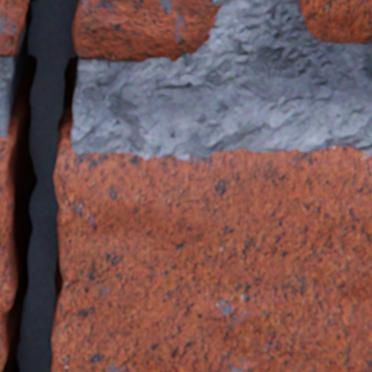brick: (298, 0, 371, 43)
broken_brick: (51, 143, 371, 371), (73, 0, 221, 61), (0, 136, 16, 371), (0, 0, 28, 56)
crack: (1, 0, 82, 371)
